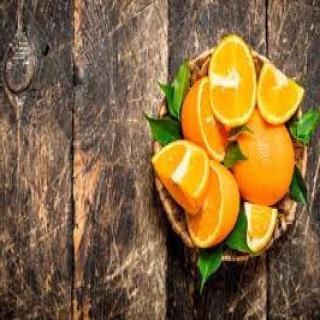orange: (226, 108, 304, 208), (144, 134, 212, 218), (186, 159, 239, 262), (205, 29, 257, 130)
